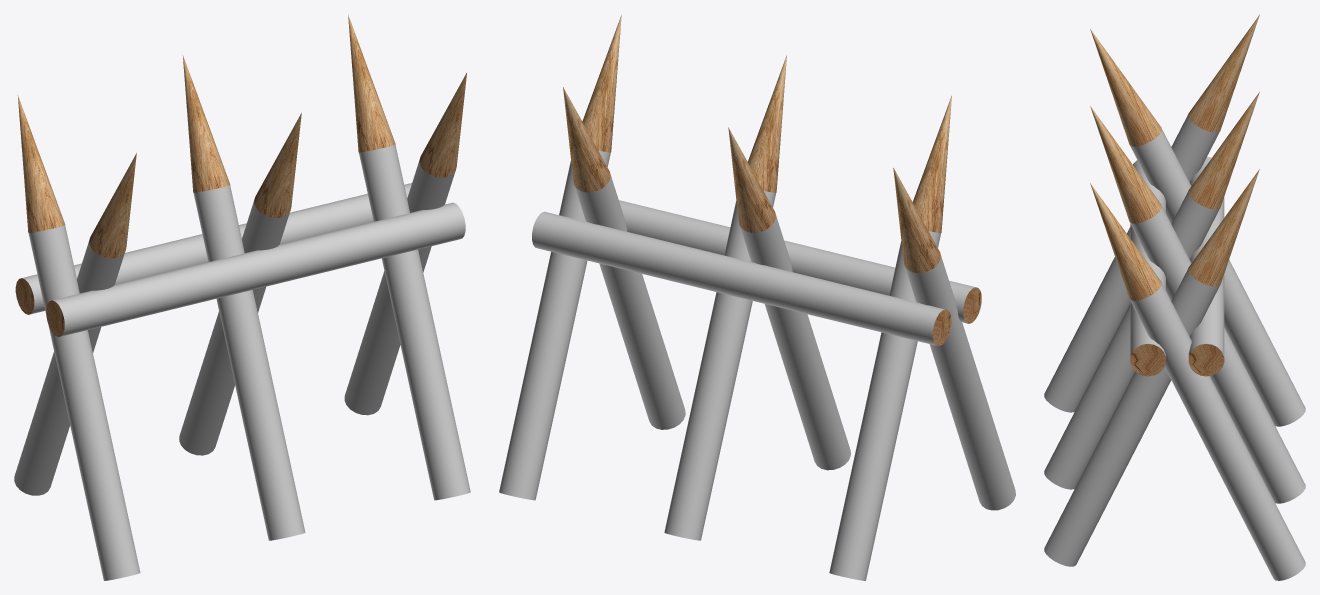
The model's file is Fence.fbx.
3 views of the same model, side by side, from view 1: azimuth 30°, elevation 25°; view 2: azimuth 150°, elevation 25°; view 3: azimuth 270°, elevation 25° (orthographic). The views are drawn at different scales.
Visible parts, largest first — view 1: Cylinder002, Cylinder006, Cylinder004, Cylinder001, Cylinder008, Cylinder005, Cylinder003, Cylinder007, Cone003, Cone001, Cone005, Cone006 (+2 smaller); view 2: Cylinder008, Cylinder003, Cylinder005, Cylinder007, Cylinder006, Cylinder004, Cylinder001, Cylinder002, Cone004, Cone002, Cone006, Cone003 (+2 smaller); view 3: Cylinder005, Cylinder004, Cylinder003, Cylinder007, Cylinder001, Cylinder006, Cylinder008, Cone001, Cone006, Cone005, Cone004, Cone003 (+2 smaller).
Part boxes in pixels (box(x1,y1,x2,y2)): Cylinder002: box(46, 202, 465, 336); Cylinder006: box(28, 225, 140, 580); Cylinder004: box(359, 144, 470, 500); Cylinder001: box(193, 185, 305, 540); Cylinder008: box(15, 183, 411, 314); Cylinder005: box(344, 160, 455, 415); Cylinder003: box(179, 200, 289, 455); Cylinder007: box(14, 241, 124, 495); Cone003: box(348, 14, 395, 152); Cone001: box(182, 55, 230, 192); Cone005: box(17, 95, 65, 232); Cone006: box(89, 153, 136, 258); Cylinder008: box(532, 211, 951, 346); Cylinder003: box(664, 191, 775, 540); Cylinder005: box(499, 150, 610, 500); Cylinder007: box(829, 231, 940, 580); Cylinder006: box(905, 256, 1015, 510); Cylinder004: box(575, 175, 685, 429); Cylinder001: box(740, 215, 850, 470); Cylinder002: box(619, 200, 981, 323); Cone004: box(582, 15, 621, 152); Cone002: box(748, 55, 786, 192); Cone006: box(912, 95, 951, 232); Cone003: box(563, 87, 610, 192); Cylinder005: box(1130, 283, 1305, 580); Cylinder004: box(1044, 269, 1219, 566); Cylinder003: box(1130, 206, 1305, 503); Cylinder007: box(1130, 129, 1305, 426); Cylinder001: box(1044, 192, 1219, 489); Cylinder006: box(1044, 115, 1219, 412); Cylinder008: box(1188, 156, 1224, 376); Cone001: box(1188, 91, 1259, 209); Cone006: box(1090, 29, 1161, 146); Cone005: box(1188, 14, 1259, 132); Cone004: box(1090, 183, 1161, 300); Cone003: box(1188, 169, 1259, 286).
Size of the model in its own units: 119 by 118 by 70.53.
